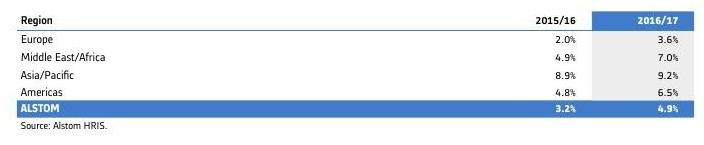table: (0, 0, 704, 145)
